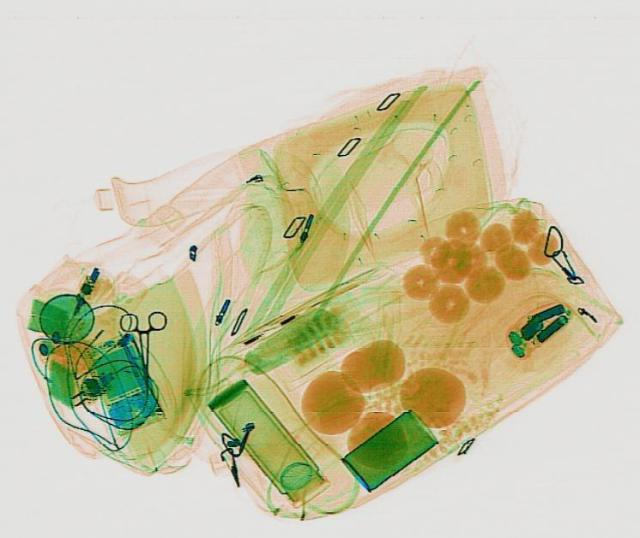Scissors: (118, 308, 168, 385)
